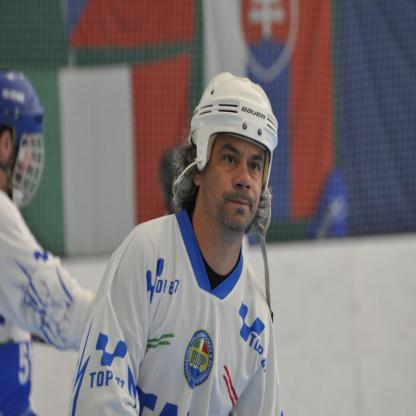Helmet: (174, 69, 280, 327), (0, 70, 47, 209)
